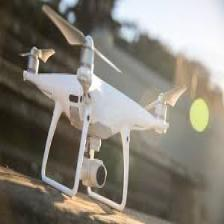drone: (16, 0, 188, 224)
